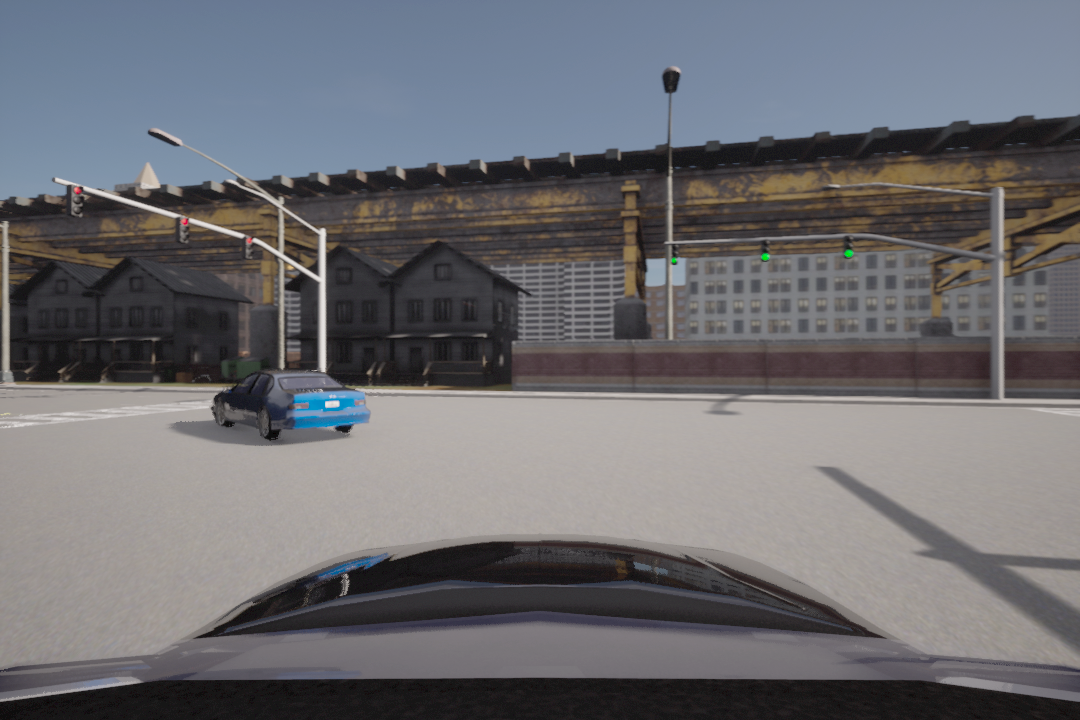TrafficLight: (64, 184, 89, 217), (176, 217, 193, 248), (841, 234, 858, 261), (240, 235, 256, 260), (760, 239, 772, 267), (667, 242, 680, 267)
